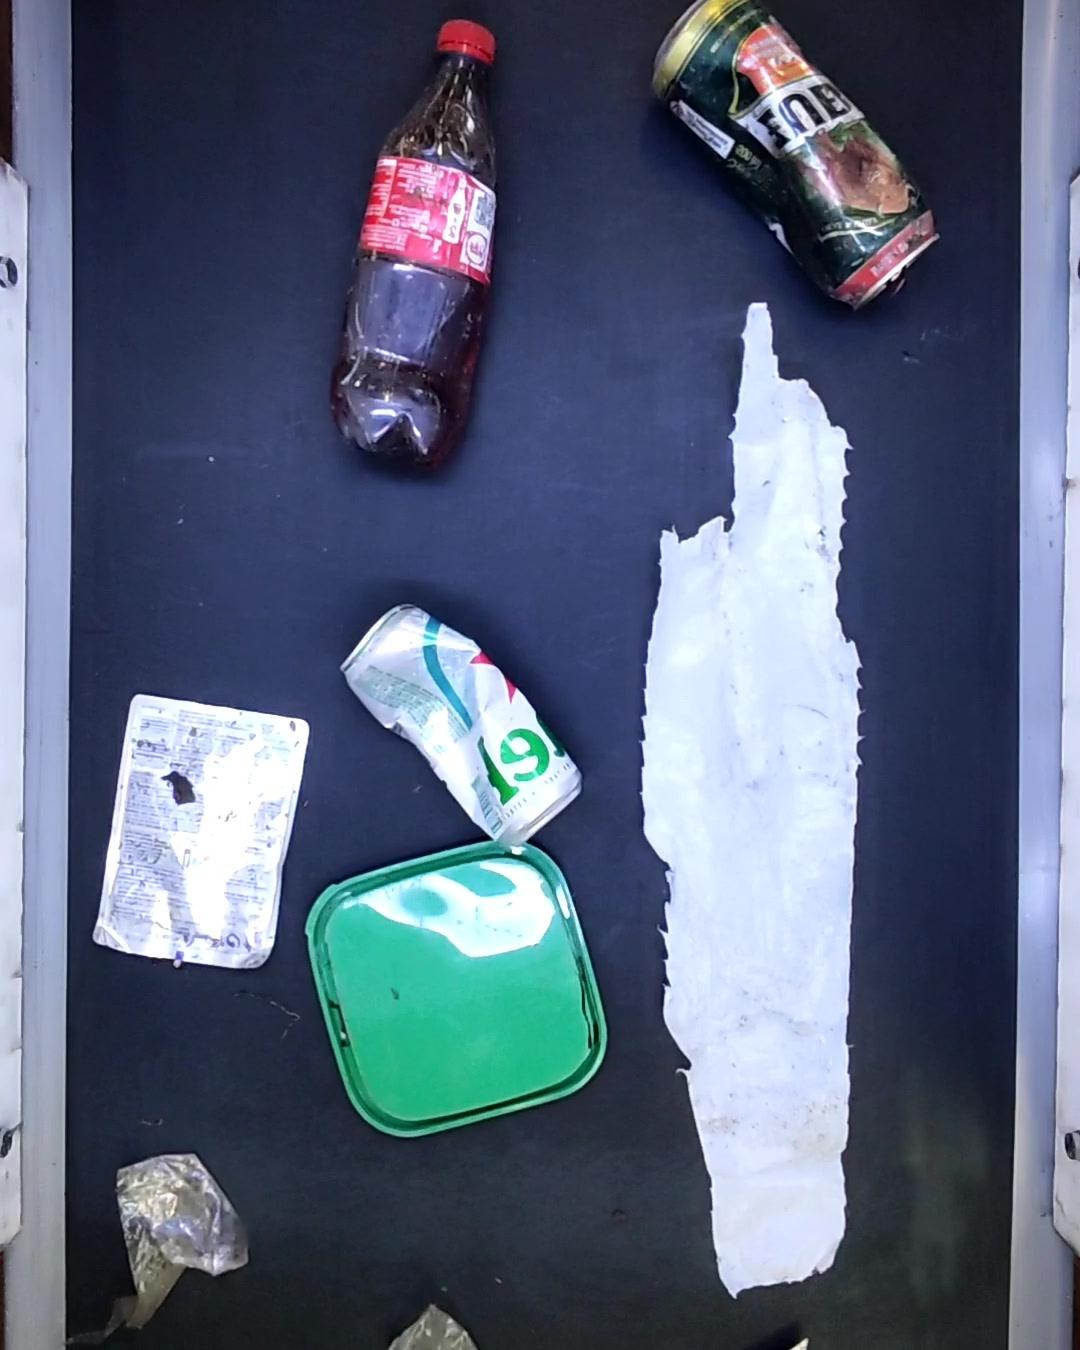Drankblikjes: (645, 3, 941, 315), (342, 604, 583, 856)
Drankflessen - 1-2 liter: (327, 15, 514, 475)
Plastic folies of stukken daarvan 2.5- 50 cm: (625, 295, 875, 1304), (64, 1152, 250, 1350), (387, 1306, 476, 1350)
